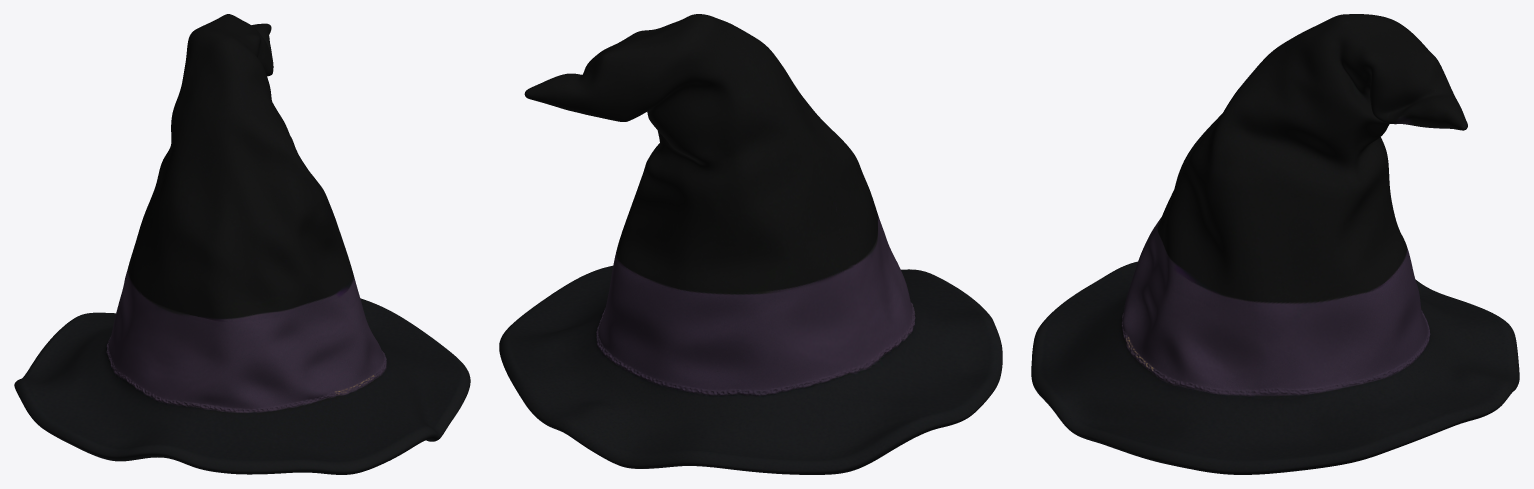
The model's file is Chapeau sorcier.glb.
3 views of the same model, side by side, from view 1: azimuth 30°, elevation 25°; view 2: azimuth 150°, elevation 25°; view 3: azimuth 270°, elevation 25° (orthographic). The views are drawn at different scales.
Size of the model in its own units: 1.9 by 1.56 by 1.86.
1 material, 1 textured.
